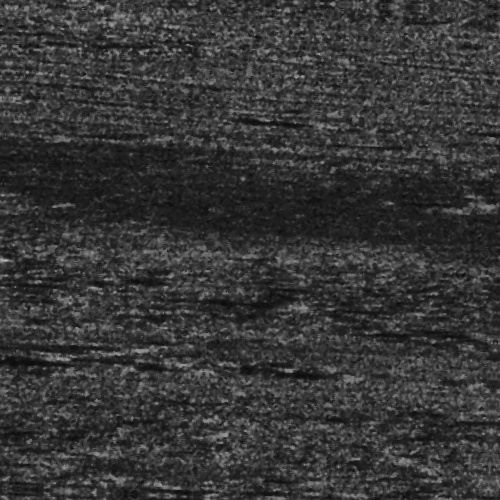object: (83, 363, 146, 374), (122, 346, 195, 355), (344, 365, 385, 374), (40, 358, 71, 369), (84, 354, 125, 357), (0, 266, 5, 269)
shadow: (0, 346, 159, 355), (0, 363, 114, 374), (251, 365, 364, 374), (0, 358, 56, 369), (0, 354, 104, 357)
